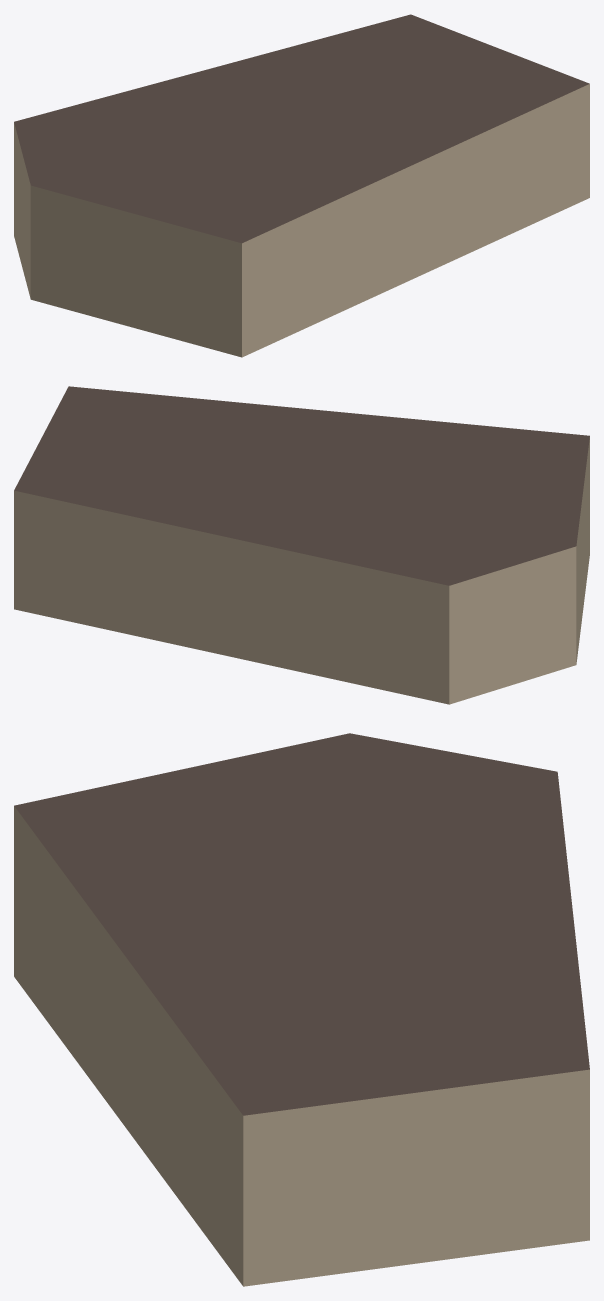
3 renders of one model, top to bottom at view 1: azimuth 30°, elevation 25°; view 2: azimuth 150°, elevation 25°; view 3: azimuth 270°, elevation 25°, orthographic. The views are drawn at different scales.
Visible parts, largest first — view 1: HP-w859488832; view 2: HP-w859488832; view 3: HP-w859488832.
Boxes of the visible parts, left/top/right/bottom form: HP-w859488832: left=14, top=14, right=589, bottom=357; HP-w859488832: left=14, top=386, right=589, bottom=704; HP-w859488832: left=14, top=733, right=589, bottom=1286.
Size of the model in its own units: 43.19 by 9 by 27.49.
